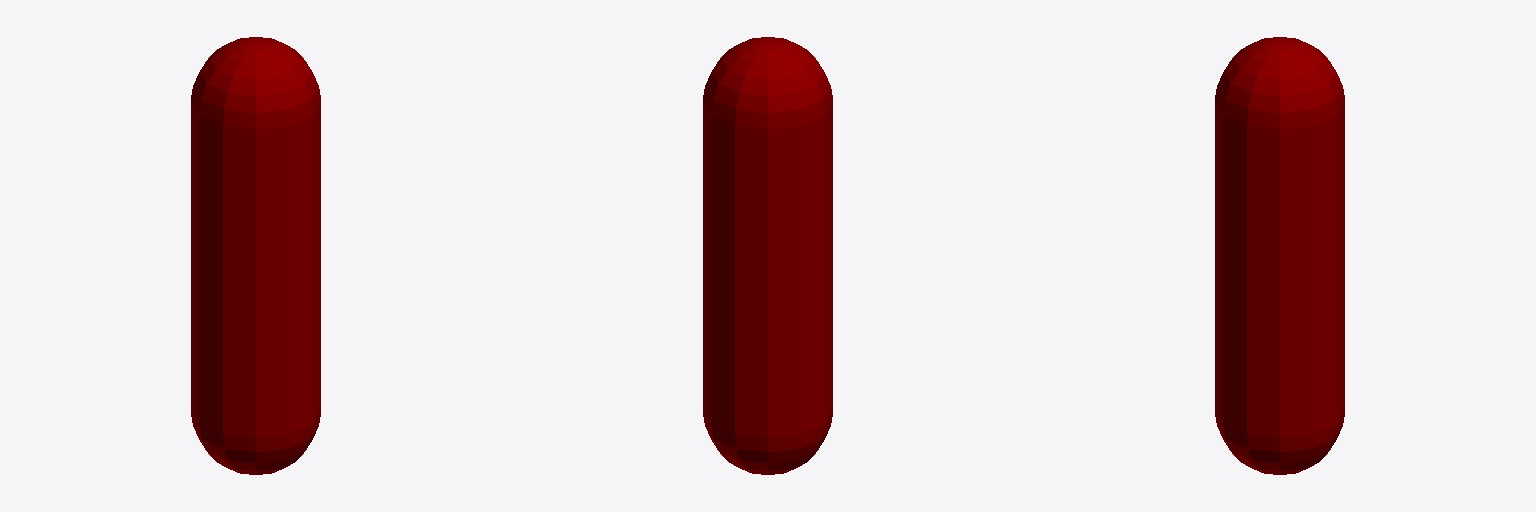
Rendered from Web3D_Red_null.obj.
3 renders of one model, left to right at view 1: azimuth 30°, elevation 25°; view 2: azimuth 150°, elevation 25°; view 3: azimuth 270°, elevation 25°, orthographic.
Parts seen in each view (by area): view 1: Red_null; view 2: Red_null; view 3: Red_null.
Boxes of the visible parts, x1=… form: Red_null: x1=191, y1=37, x2=320, y2=474; Red_null: x1=703, y1=37, x2=832, y2=474; Red_null: x1=1215, y1=37, x2=1344, y2=474.
Bounding box in the file's own units: 50 × 180 × 50.